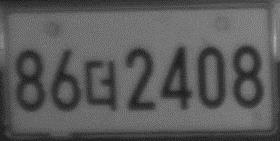0: (194, 45, 227, 108)
2: (124, 47, 158, 113)
4: (161, 45, 193, 107)
6: (46, 47, 83, 112)
8: (9, 47, 48, 113), (231, 44, 266, 110)
더: (83, 57, 120, 115)
